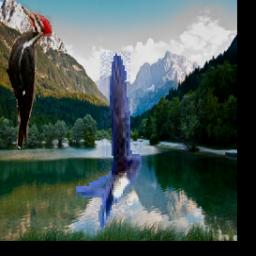Swallow: (76, 52, 142, 231)
Woodpecker: (8, 5, 53, 149)
